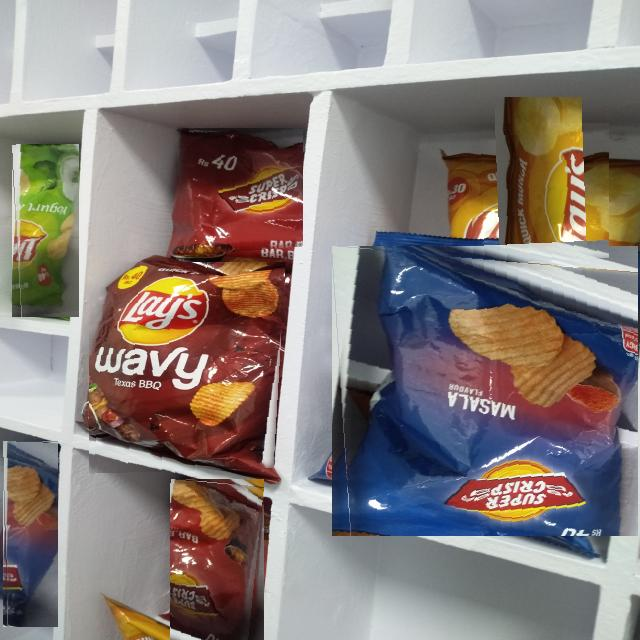Plastic: (331, 245, 638, 536), (89, 262, 286, 474), (468, 123, 609, 264), (175, 128, 303, 256), (170, 478, 264, 640), (11, 144, 79, 317), (2, 440, 58, 627)
